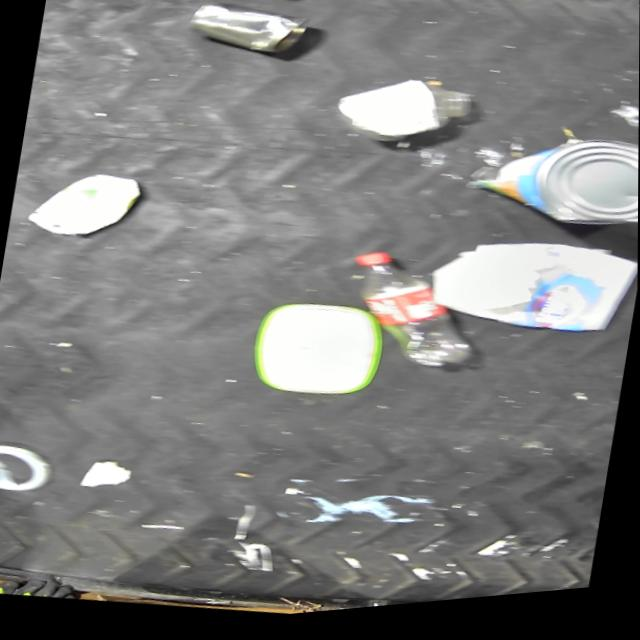can: (462, 126, 639, 253), (184, 0, 313, 71)
plastic_bottle: (337, 246, 491, 389)
